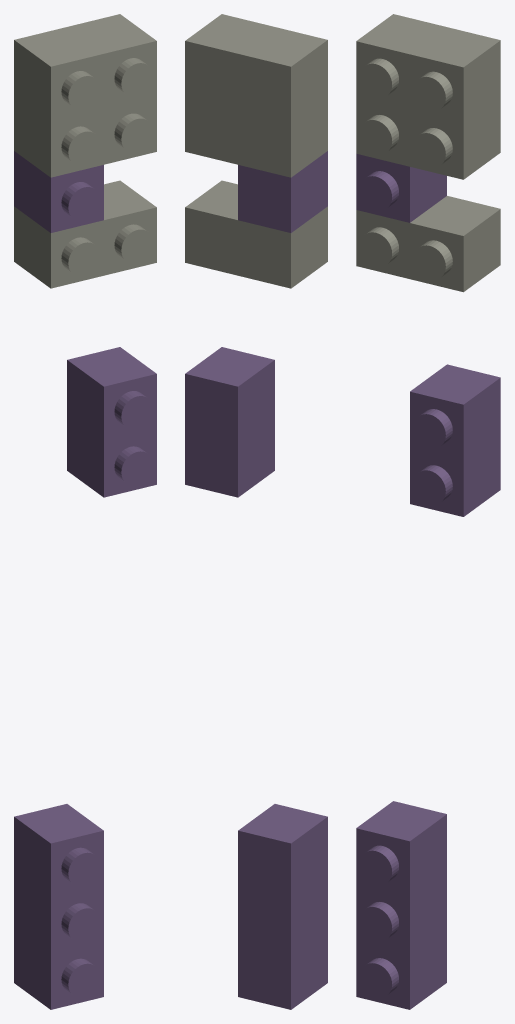
Rendered from current.glb.
The picture shows the model from 3 angles, left to right: view 1: azimuth 30°, elevation 25°; view 2: azimuth 150°, elevation 25°; view 3: azimuth 330°, elevation 25°; orthographic projection.
Parts seen in each view (by area): view 1: world; view 2: world; view 3: world.
Boxes of the visible parts, x1,y1,x2,y2 form: world: [14, 14, 156, 1009]; world: [185, 14, 327, 1009]; world: [356, 14, 500, 1009].
Size of the model in its own units: 16 by 136 by 11.4.
